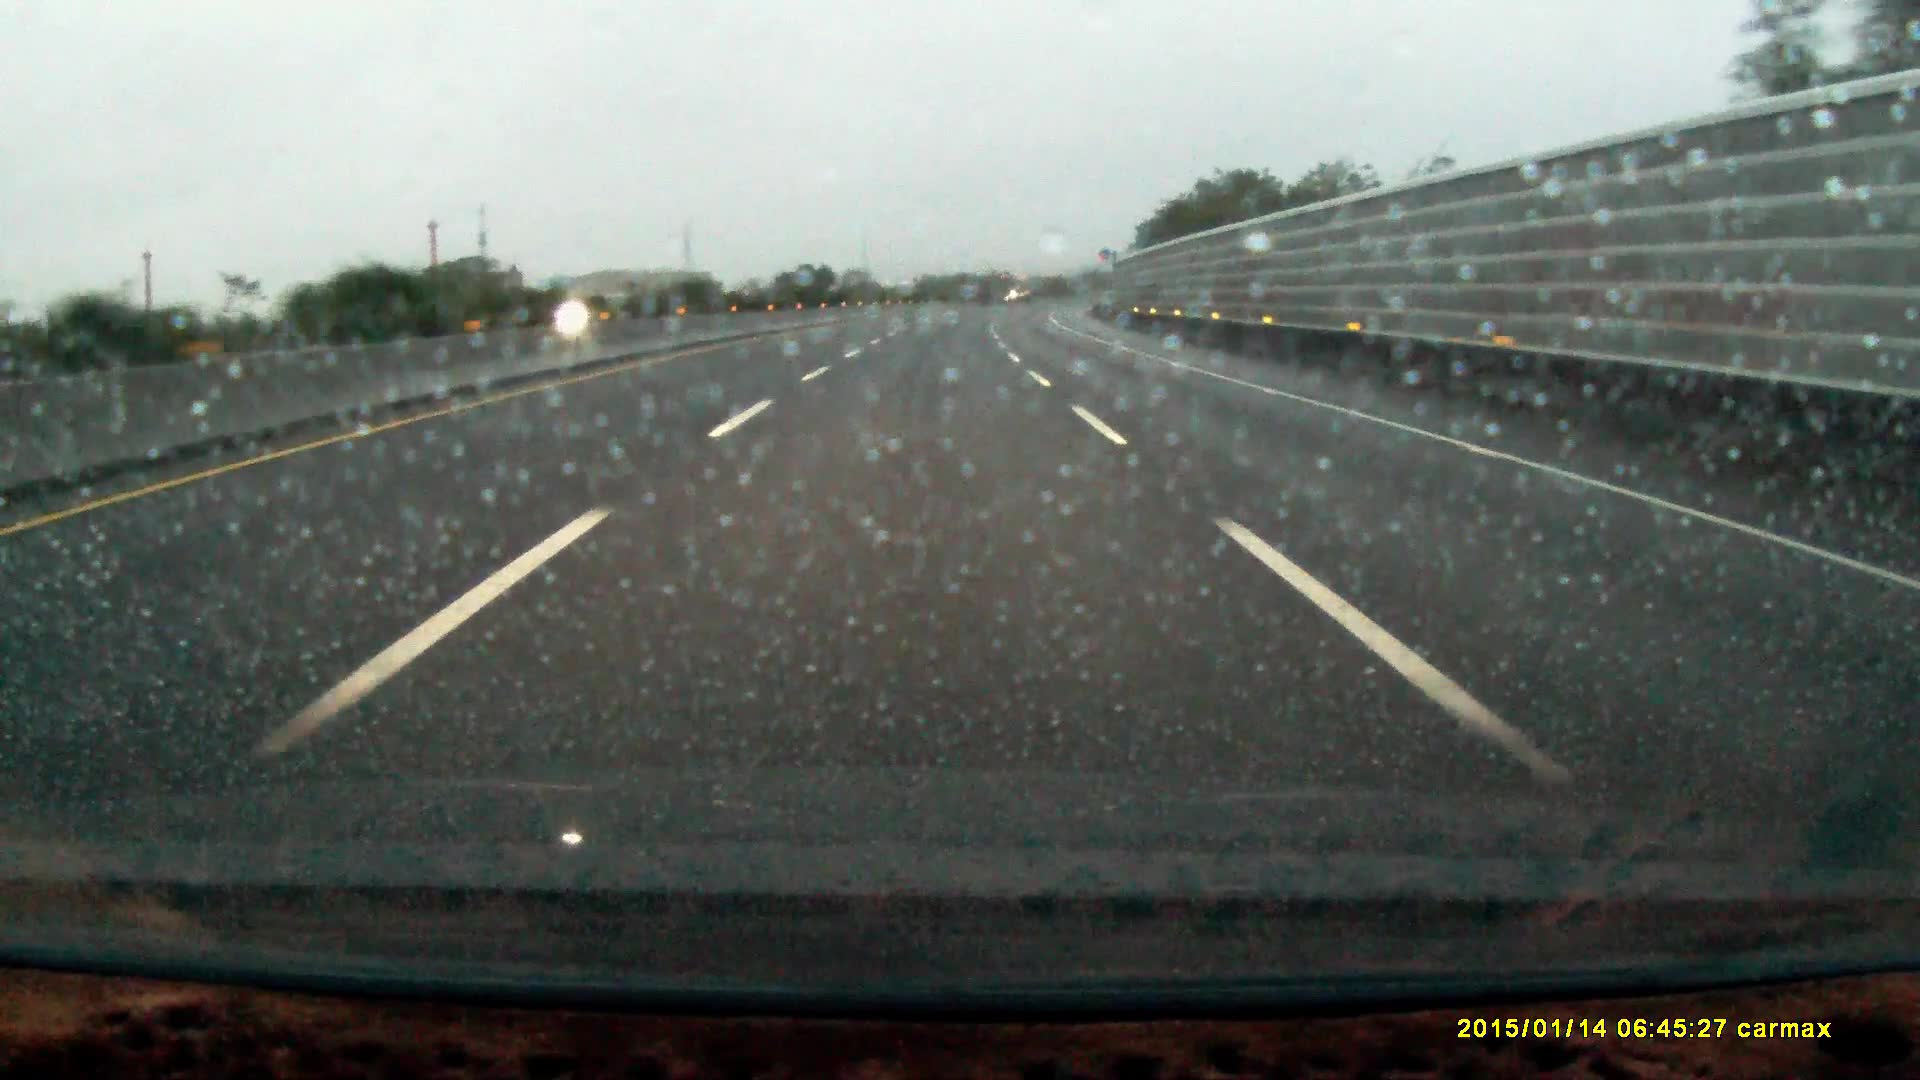vehicle: (554, 297, 629, 324)
